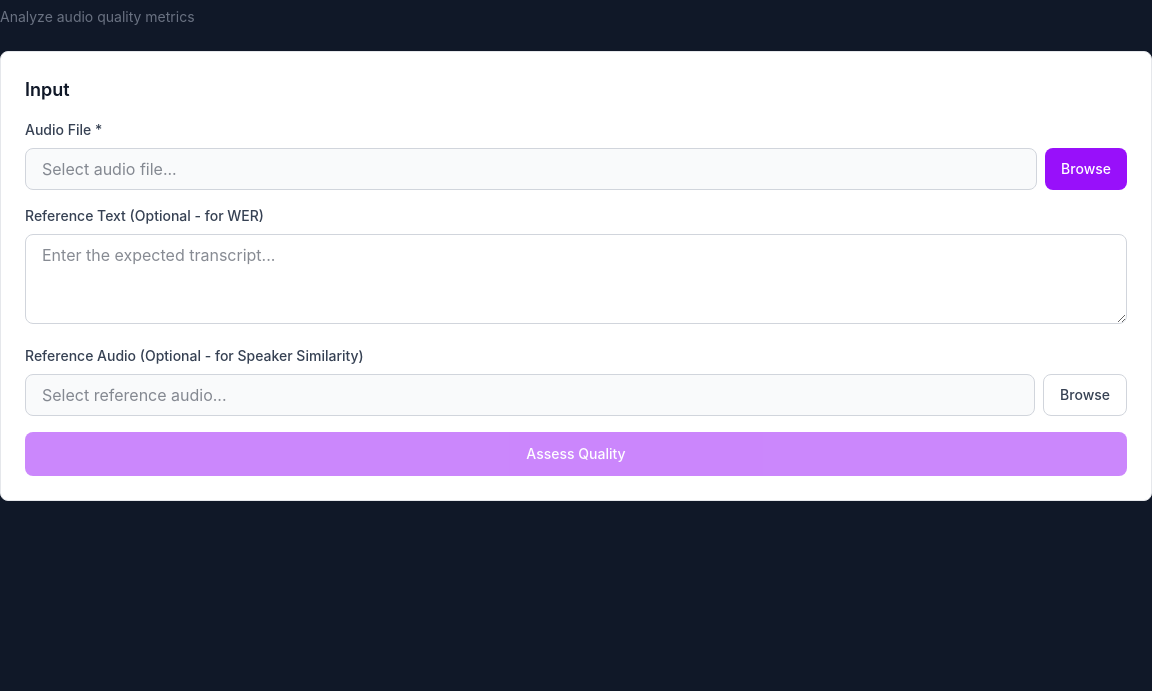
Test: QualityDashboard › Overall Assessment › should show good assessment for medium MOS
Click the button with aria-label "browse audio file" at {"x": 1086, "y": 169}, box [1045,148,1127,190]
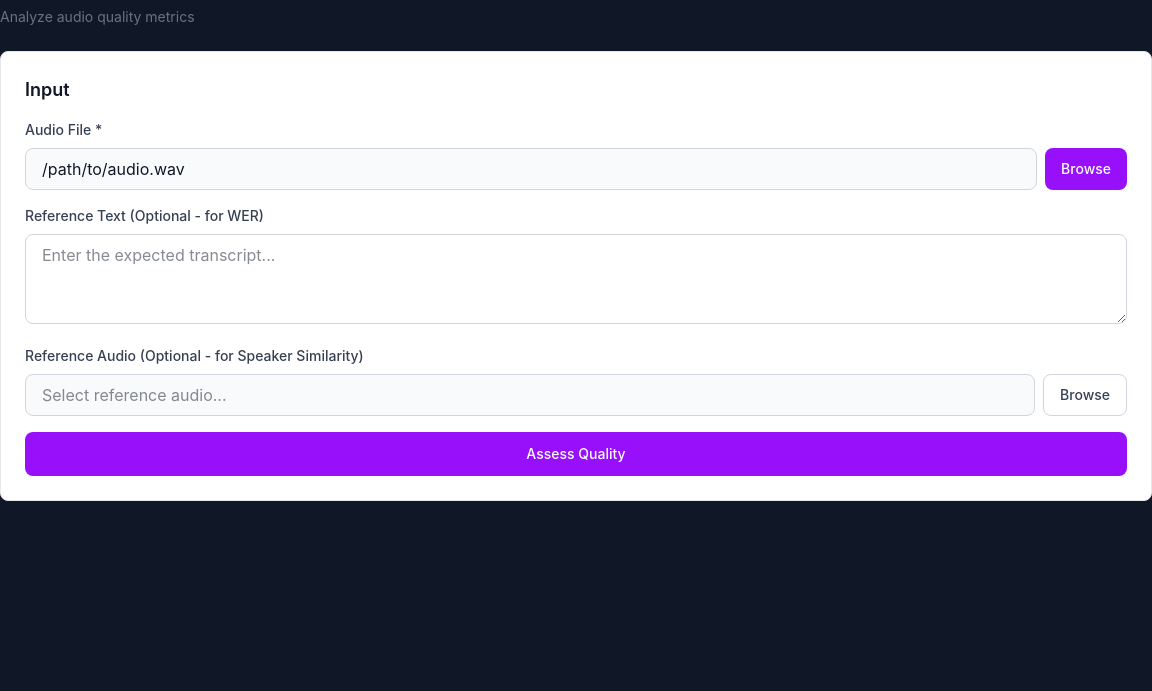
Now the button "Assess Quality" is enabled
Click the button "Assess Quality" at {"x": 576, "y": 454}, box [25,432,1127,476]
(page scrolled)
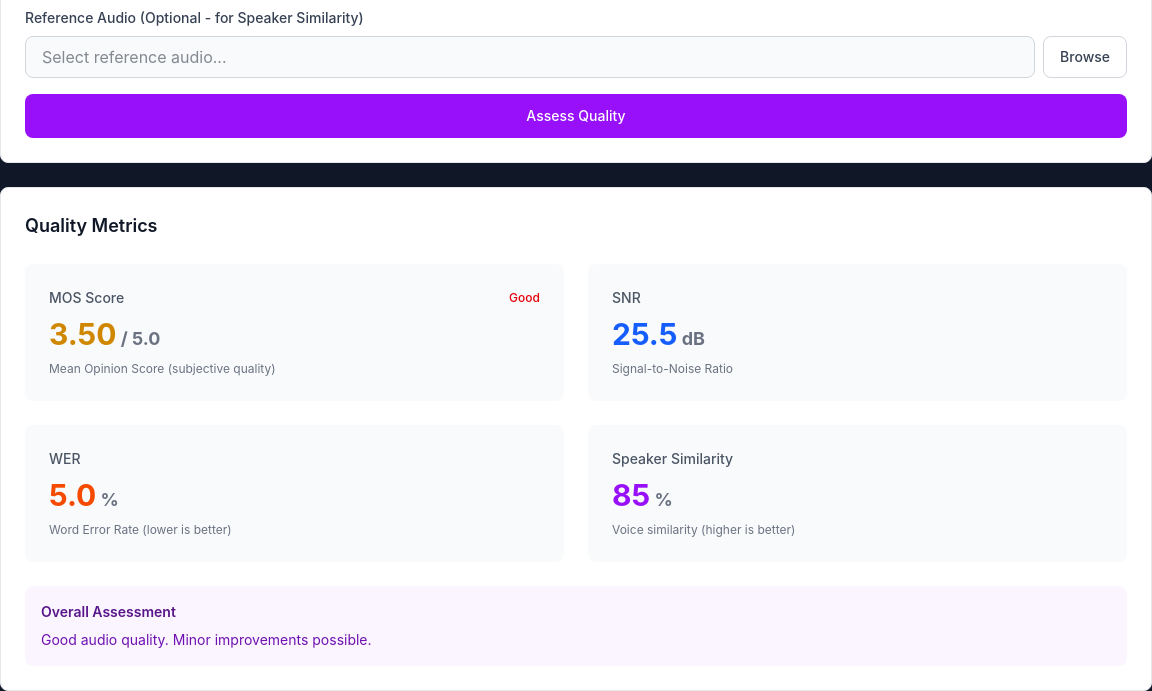
Now the text "Good audio quality. Minor improvements possible." is shown, box [41,631,372,648]
